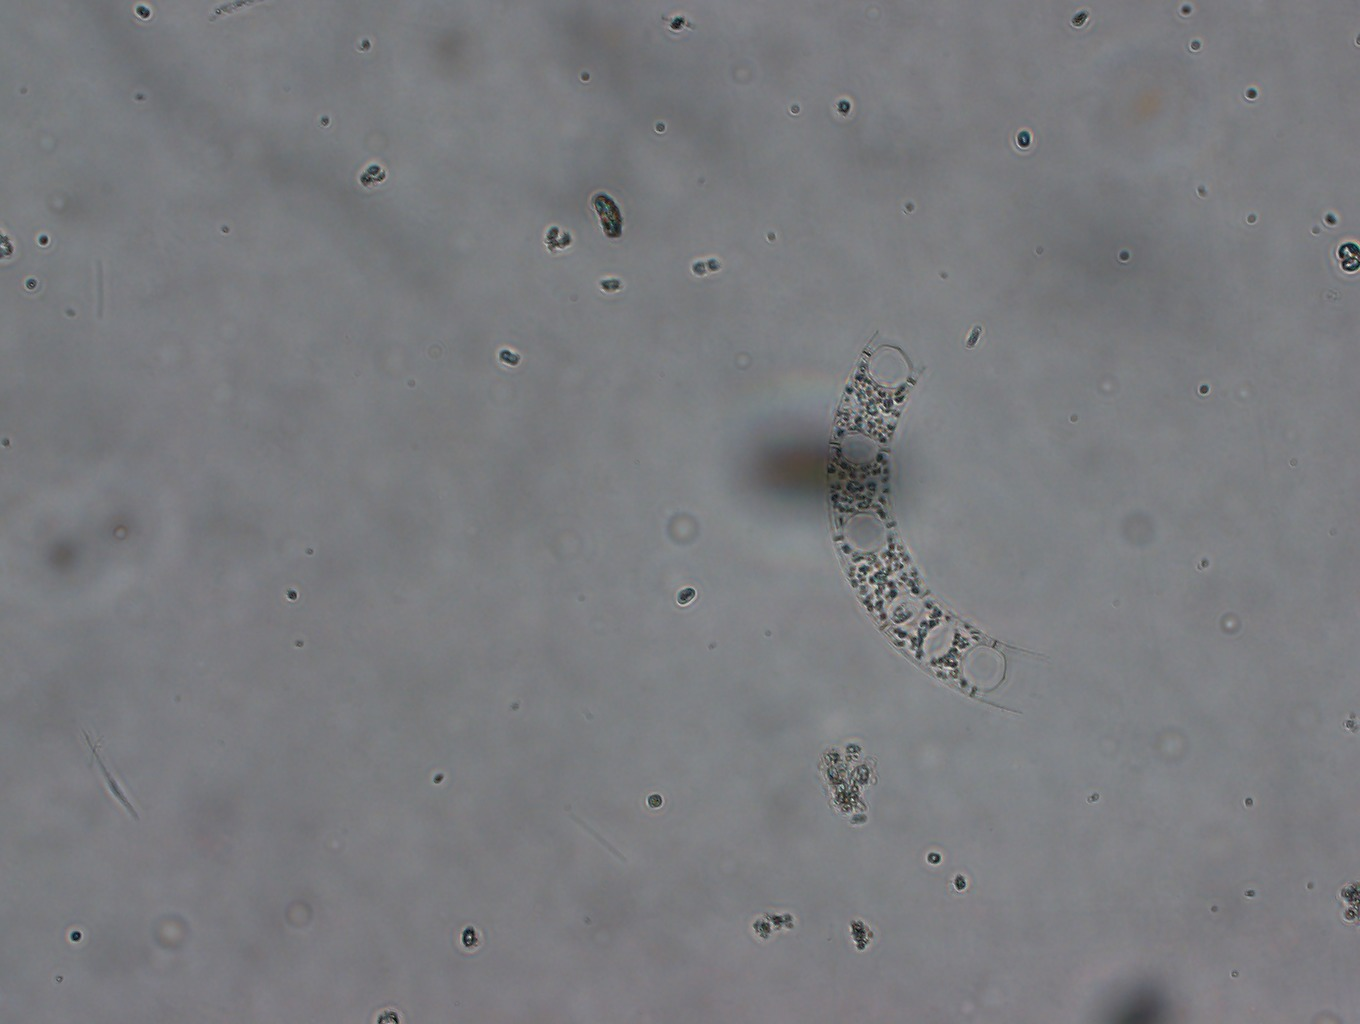eucampia: (816, 313, 1055, 731)
